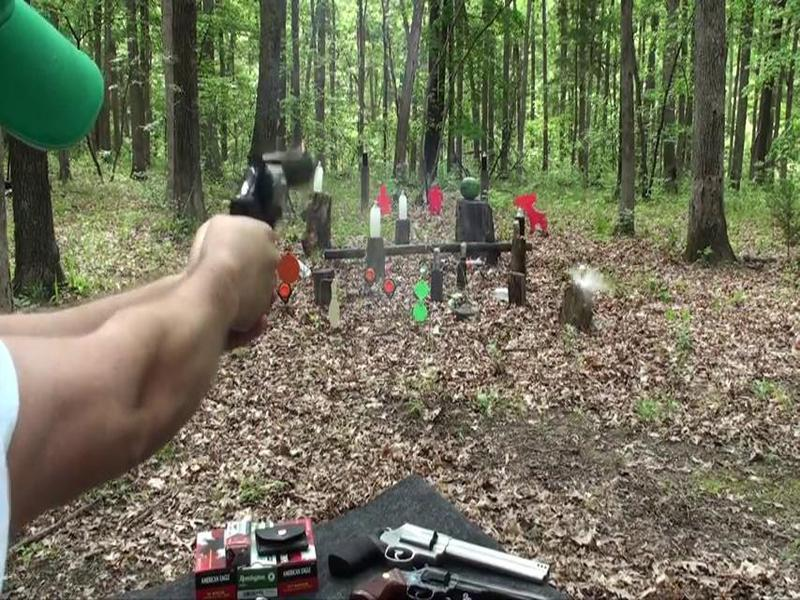Revolver: (215, 127, 324, 254)
